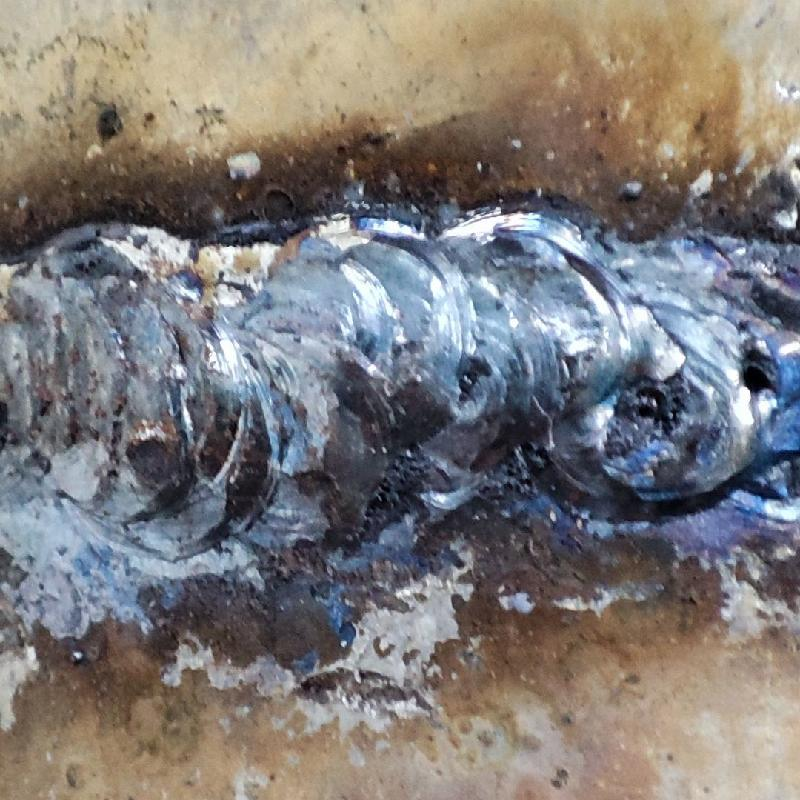Surface_pores: (608, 370, 691, 450), (725, 333, 788, 423)
good: (2, 212, 799, 523)
